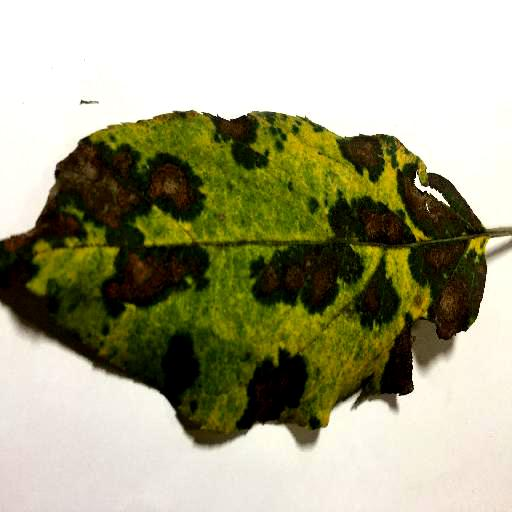Brown_Spot: (8, 137, 223, 240), (305, 168, 482, 236), (246, 237, 352, 308), (406, 239, 478, 330), (95, 253, 210, 301), (243, 353, 312, 430), (148, 330, 200, 403), (211, 114, 273, 166), (355, 267, 405, 330), (375, 328, 423, 393), (339, 138, 383, 179)
